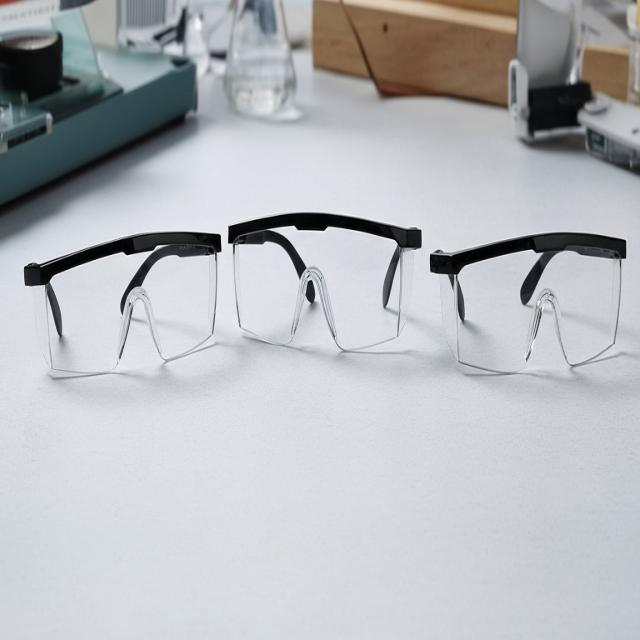oculos-epi: (24, 232, 220, 373), (430, 232, 626, 372), (229, 213, 421, 349)
